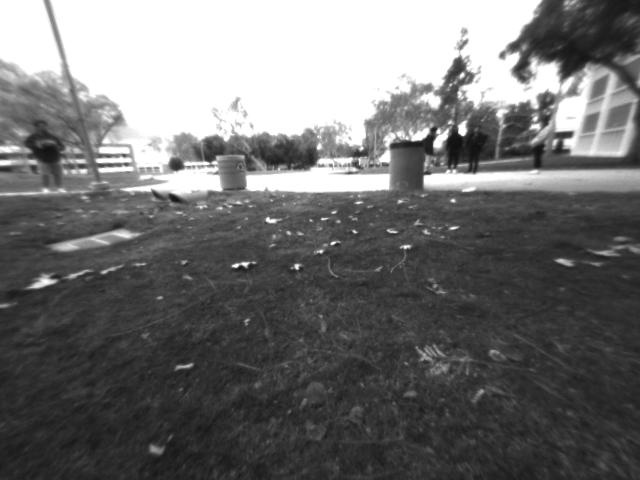trashcan: (392, 142, 425, 197), (217, 154, 253, 194)
